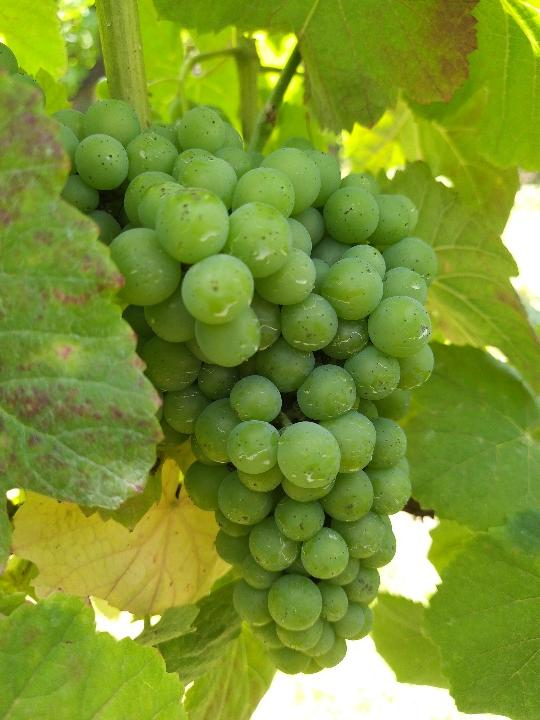grape: (42, 102, 439, 678)
